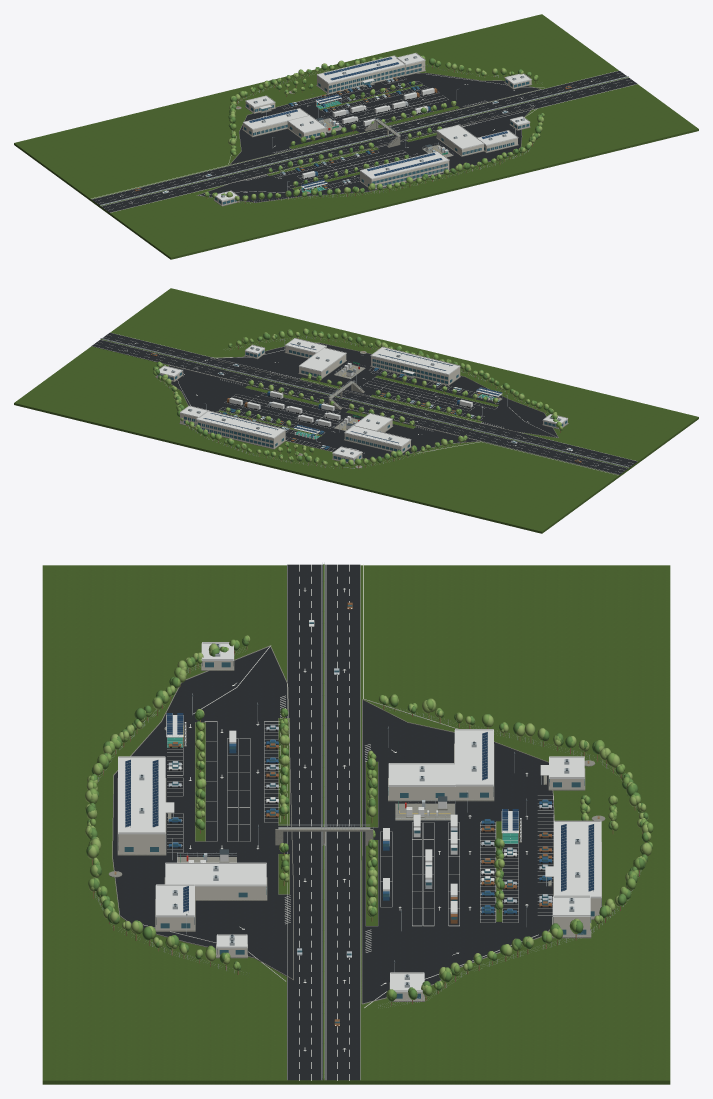
Rendered from service_large.glb.
The picture shows the model from 3 angles, top to bottom: view 1: azimuth 30°, elevation 25°; view 2: azimuth 150°, elevation 25°; view 3: azimuth 270°, elevation 25°; orthographic projection. The views are drawn at different scales.
Visible parts, largest first — view 1: 01_地形与中央高速__lawn, 01_地形与中央高速__asphalt_real, 02_北区建筑__white_aluminum, 01_地形与中央高速__road_marking, 03_南区建筑__white_aluminum, 06_绿化及照明__leaf_2, 06_绿化及照明__leaf_0, 06_绿化及照明__leaf_1, 02_北区建筑__warm_limestone, 03_南区建筑__warm_limestone, 06_绿化及照明__lawn, 04_停车标线与导向__road_marking (+5 smaller); view 2: 01_地形与中央高速__lawn, 01_地形与中央高速__asphalt_real, 02_北区建筑__white_aluminum, 03_南区建筑__white_aluminum, 06_绿化及照明__leaf_2, 01_地形与中央高速__road_marking, 06_绿化及照明__leaf_0, 06_绿化及照明__leaf_1, 06_绿化及照明__lawn, 02_北区建筑__warm_limestone, 03_南区建筑__warm_limestone, 04_停车标线与导向__road_marking (+5 smaller); view 3: 01_地形与中央高速__lawn, 01_地形与中央高速__asphalt_real, 02_北区建筑__white_aluminum, 03_南区建筑__white_aluminum, 06_绿化及照明__leaf_2, 06_绿化及照明__leaf_0, 06_绿化及照明__leaf_1, 01_地形与中央高速__road_marking, 04_停车标线与导向__road_marking, 03_南区建筑__warm_limestone, 06_绿化及照明__lawn, 02_北区建筑__warm_limestone (+11 smaller).
Part boxes in pixels (x1,y1,x2,y2): 01_地形与中央高速__lawn: (14,14,698,259); 01_地形与中央高速__asphalt_real: (91,71,637,212); 02_北区建筑__white_aluminum: (243,53,531,133); 01_地形与中央高速__road_marking: (91,70,637,212); 03_南区建筑__white_aluminum: (215,116,530,201); 06_绿化及照明__leaf_2: (204,56,544,200); 06_绿化及照明__leaf_0: (206,55,543,200); 06_绿化及照明__leaf_1: (205,56,544,199); 02_北区建筑__warm_limestone: (243,60,531,139); 03_南区建筑__warm_limestone: (214,121,529,205); 06_绿化及照明__lawn: (267,84,459,189); 04_停车标线与导向__road_marking: (243,77,514,193); 01_地形与中央高速__lawn: (14,288,698,533); 01_地形与中央高速__asphalt_real: (91,333,637,474); 02_北区建筑__white_aluminum: (159,365,411,458); 03_南区建筑__white_aluminum: (245,338,567,423); 06_绿化及照明__leaf_2: (153,328,562,466); 01_地形与中央高速__road_marking: (92,332,637,475); 06_绿化及照明__leaf_0: (153,329,561,466); 06_绿化及照明__leaf_1: (153,331,562,466); 06_绿化及照明__lawn: (218,375,498,436); 02_北区建筑__warm_limestone: (156,371,410,463); 03_南区建筑__warm_limestone: (245,346,567,428); 04_停车标线与导向__road_marking: (183,362,528,453); 01_地形与中央高速__lawn: (42,564,670,1084); 01_地形与中央高速__asphalt_real: (113,564,553,1080); 02_北区建筑__white_aluminum: (388,729,601,992); 03_南区建筑__white_aluminum: (118,642,266,948); 06_绿化及照明__leaf_2: (85,635,651,999); 06_绿化及照明__leaf_0: (86,638,652,1001); 06_绿化及照明__leaf_1: (87,635,653,998); 01_地形与中央高速__road_marking: (143,564,538,1080); 04_停车标线与导向__road_marking: (167,683,553,985); 03_南区建筑__warm_limestone: (118,661,266,956); 06_绿化及照明__lawn: (195,718,502,925); 02_北区建筑__warm_limestone: (389,779,600,1000).
Bounding box in the file's own units: 409 × 10.74 × 210.
30 materials, 3 textured.
